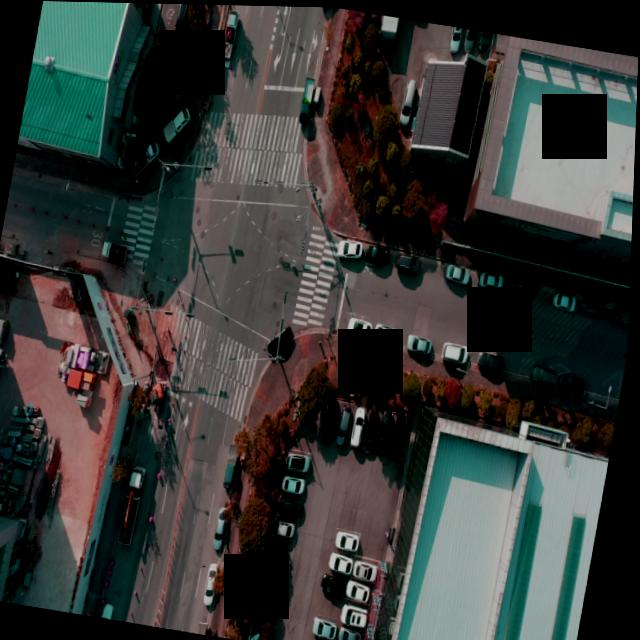car: (266, 320, 295, 367), (389, 409, 411, 462), (375, 405, 396, 457), (363, 405, 384, 454), (323, 568, 352, 600), (529, 359, 559, 387), (350, 407, 370, 448), (582, 292, 611, 319), (324, 398, 342, 440), (478, 346, 508, 369), (402, 75, 417, 120), (208, 563, 224, 604), (315, 613, 342, 637), (445, 260, 474, 282), (561, 368, 590, 390), (333, 548, 359, 572), (338, 527, 364, 551), (337, 404, 353, 442), (347, 314, 374, 336), (346, 604, 373, 626), (366, 244, 393, 266), (443, 338, 470, 359), (513, 275, 540, 296), (288, 449, 313, 471), (374, 320, 400, 341), (613, 302, 632, 330), (350, 578, 375, 599), (357, 556, 382, 577), (280, 495, 305, 516), (218, 510, 232, 547), (408, 331, 434, 350), (284, 471, 307, 491), (481, 268, 505, 287), (554, 288, 578, 307), (340, 237, 364, 256), (399, 248, 422, 267), (476, 28, 491, 55), (278, 518, 299, 536), (104, 596, 119, 619), (450, 24, 463, 49), (462, 26, 475, 51), (343, 626, 365, 640), (314, 638, 338, 640)
medium_truck: (122, 467, 148, 550)
small_truck: (127, 134, 161, 178), (160, 99, 192, 144), (216, 8, 239, 70), (298, 73, 317, 124), (225, 445, 243, 487), (100, 239, 128, 261)
